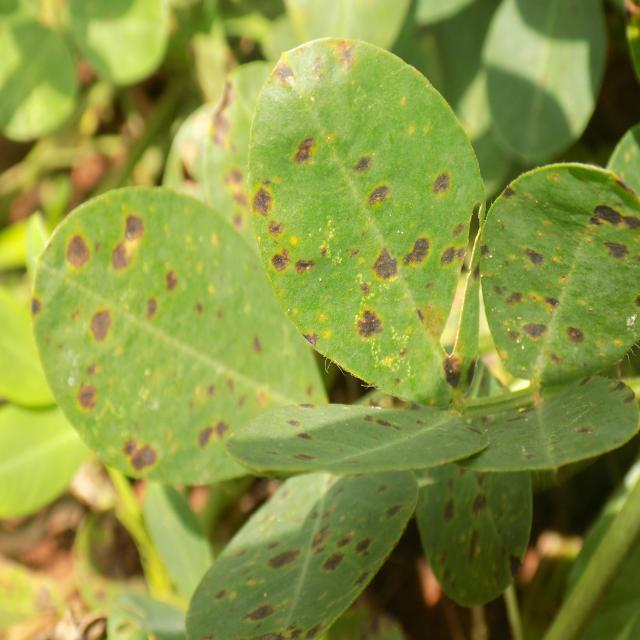Ground nut_tikka leaf spot: (244, 34, 487, 404), (35, 186, 325, 487), (472, 159, 640, 392)
